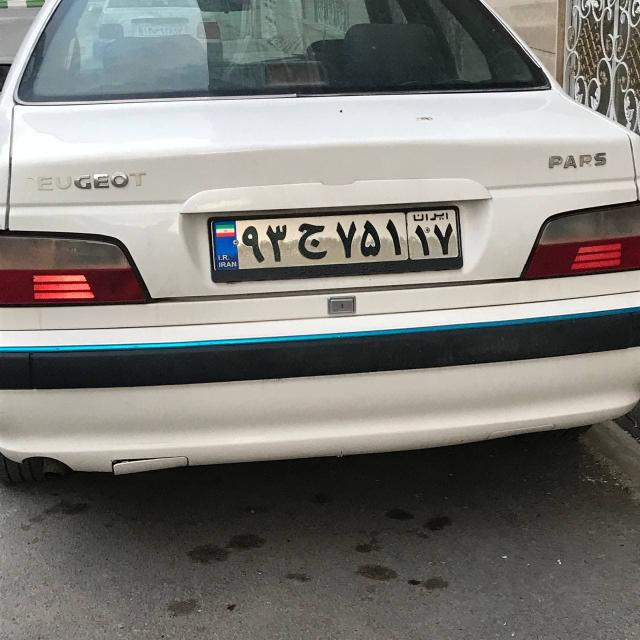Plates: (211, 207, 461, 272)
